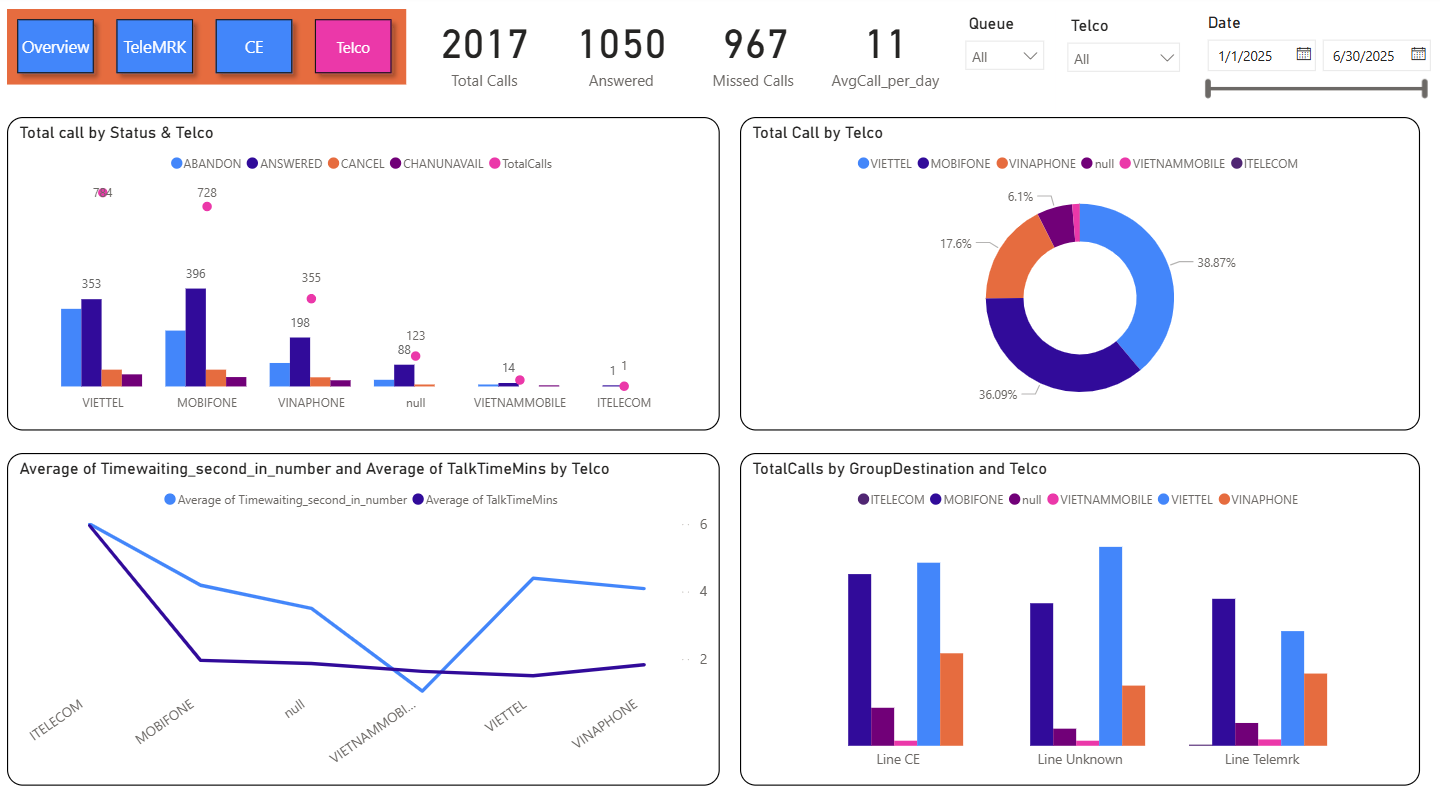

The dashboard page shown, as its layout file describes it:
{"tool":"powerbi","page":{"name":"Telco","canvas":[1280,720],"ordinal":3},"visuals":[{"type":"card","fields":{"Values":["Hotline.TotalCalls"]},"box":[370.6,4.4,121.4,86],"z":0,"group":"g2"},{"type":"slicer","fields":{"Values":["Hotline.Date"]},"box":[1059.6,10.6,220.8,90.4],"z":0},{"type":"card","fields":{"Values":["Hotline.CountAnswer"]},"box":[492,4.4,121.2,86],"z":1000,"group":"g2"},{"type":"lineChart","fields":{"Category":["Hotline.Telco"],"Y":["Avg(Hotline.Timewaiting_second_in_number)"],"Y2":["Avg(Hotline.TalkTimeMins)"]},"box":[8,405.2,632.2,295.3],"z":1000},{"type":"card","fields":{"Values":["Hotline.CountMissCall"]},"box":[611.3,4.4,121.2,86],"z":2000,"group":"g2"},{"type":"lineClusteredColumnComboChart","title":"Total call by Status & Telco","fields":{"Category":["Hotline.Telco"],"Y":["CountNonNull(Hotline.Status)"],"Series":["Hotline.Status"],"Y2":["Hotline.TotalCalls"]},"box":[8,107.3,632.2,277.5],"z":2000},{"type":"donutChart","title":"Total Call by Telco","fields":{"Category":["Hotline.Telco"],"Y":["Hotline.TotalCalls"]},"box":[657.9,107.3,603,277.5],"z":3000},{"type":"card","fields":{"Values":["Hotline.AvgCall_per_day"]},"box":[726.2,4.4,121.4,86],"z":4000,"group":"g2"},{"type":"clusteredColumnChart","fields":{"Category":["Hotline.GroupDestination"],"Y":["Hotline.TotalCalls"],"Series":["Hotline.Telco"]},"box":[657.9,405.2,603,295.3],"z":4000},{"type":"pageNavigator","box":[8,11.5,353.8,66.5],"z":5000},{"type":"slicer","fields":{"Values":["Hotline.Queue"]},"box":[847.7,11.5,89.7,90],"z":5000,"group":"g1"},{"type":"group","id":"g1","title":"Group 2","box":[847.7,11.5,211,91.3],"z":6000},{"type":"group","id":"g2","title":"Group 1","box":[370.6,4.4,477,86],"z":7000},{"type":"slicer","fields":{"Values":["Hotline.Telco"]},"box":[938.3,12.8,120.4,90],"z":7000,"group":"g1"}]}

Visuals, with their boxes in screenshot pixels (x1, y1, x2, y2), scaled from the page's 1280x720 canvas onto the 1440x795 screenshot:
card - Hotline.TotalCalls: left=417, top=5, right=554, bottom=100
slicer - Hotline.Date: left=1192, top=12, right=1439, bottom=112
card - Hotline.CountAnswer: left=554, top=5, right=690, bottom=100
lineChart - Hotline.Telco x Avg(Hotline.Timewaiting_second_in_number): left=9, top=447, right=720, bottom=773
card - Hotline.CountMissCall: left=688, top=5, right=824, bottom=100
"Total call by Status & Telco" lineClusteredColumnComboChart: left=9, top=118, right=720, bottom=425
"Total Call by Telco" donutChart: left=740, top=118, right=1419, bottom=425
card - Hotline.AvgCall_per_day: left=817, top=5, right=954, bottom=100
clusteredColumnChart - Hotline.GroupDestination x Hotline.TotalCalls: left=740, top=447, right=1419, bottom=773
pageNavigator: left=9, top=13, right=407, bottom=86
slicer - Hotline.Queue: left=954, top=13, right=1055, bottom=112
"Group 2" group: left=954, top=13, right=1191, bottom=114
"Group 1" group: left=417, top=5, right=954, bottom=100
slicer - Hotline.Telco: left=1056, top=14, right=1191, bottom=114
